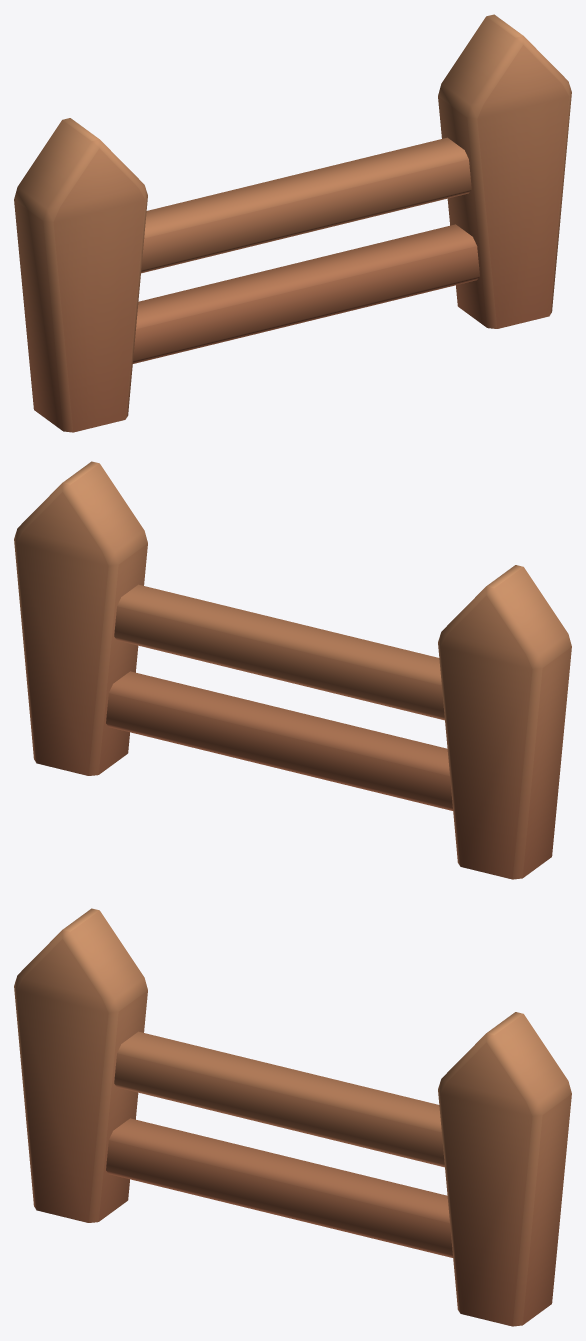
Rendered from Fence Wide Long.glb.
3 renders of one model, top to bottom at view 1: azimuth 30°, elevation 25°; view 2: azimuth 150°, elevation 25°; view 3: azimuth 330°, elevation 25°, orthographic.
Visible parts, largest first — view 1: fence_wide_long; view 2: fence_wide_long; view 3: fence_wide_long.
Part boxes in pixels (x1,y1,x2,y2): fence_wide_long: [14, 14, 571, 432]; fence_wide_long: [14, 461, 571, 879]; fence_wide_long: [14, 908, 571, 1326].
Size of the model in its own units: 2.49 by 1.28 by 0.3.
Materials: 1 (1 with a texture image).
